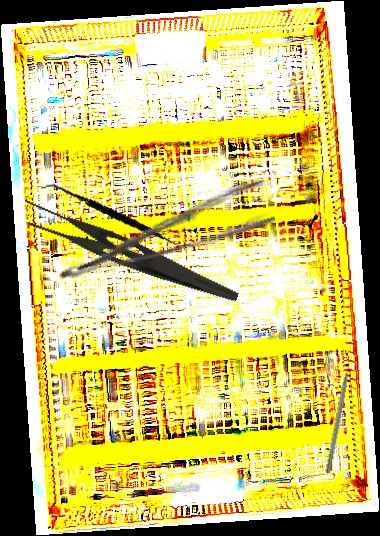Dressing Forceps: (14, 195, 248, 304), (48, 176, 277, 284)
Hook Surgical: (324, 357, 355, 474)
Spatula Surgical: (40, 165, 192, 269)
